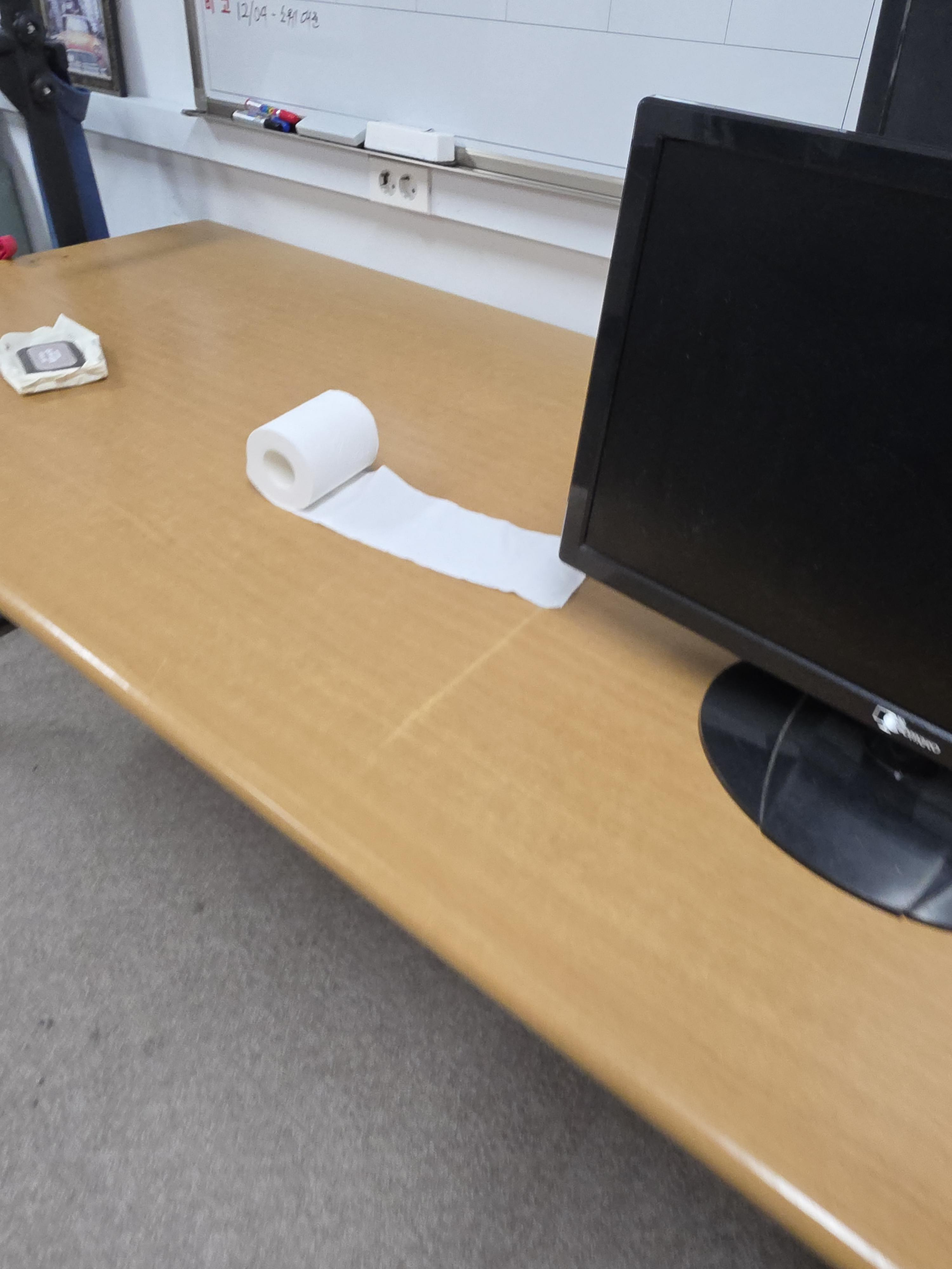tissue: (245, 389, 586, 609)
